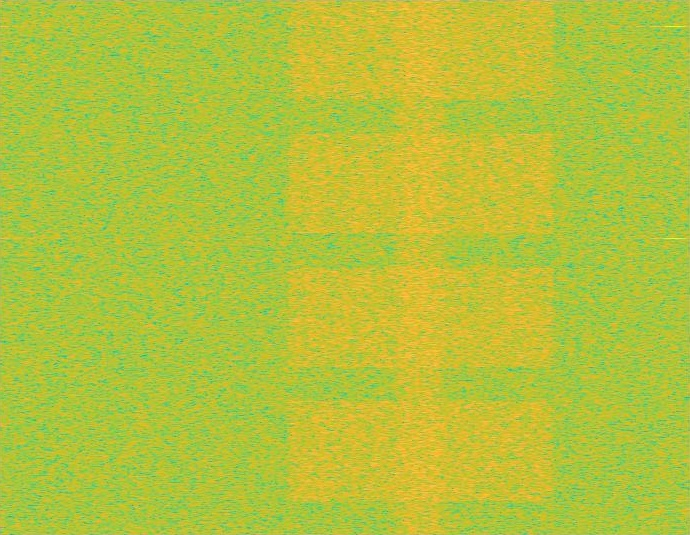5G: (283, 0, 559, 534)
DSSS: (390, 0, 452, 534)
Radar: (668, 0, 681, 534)
